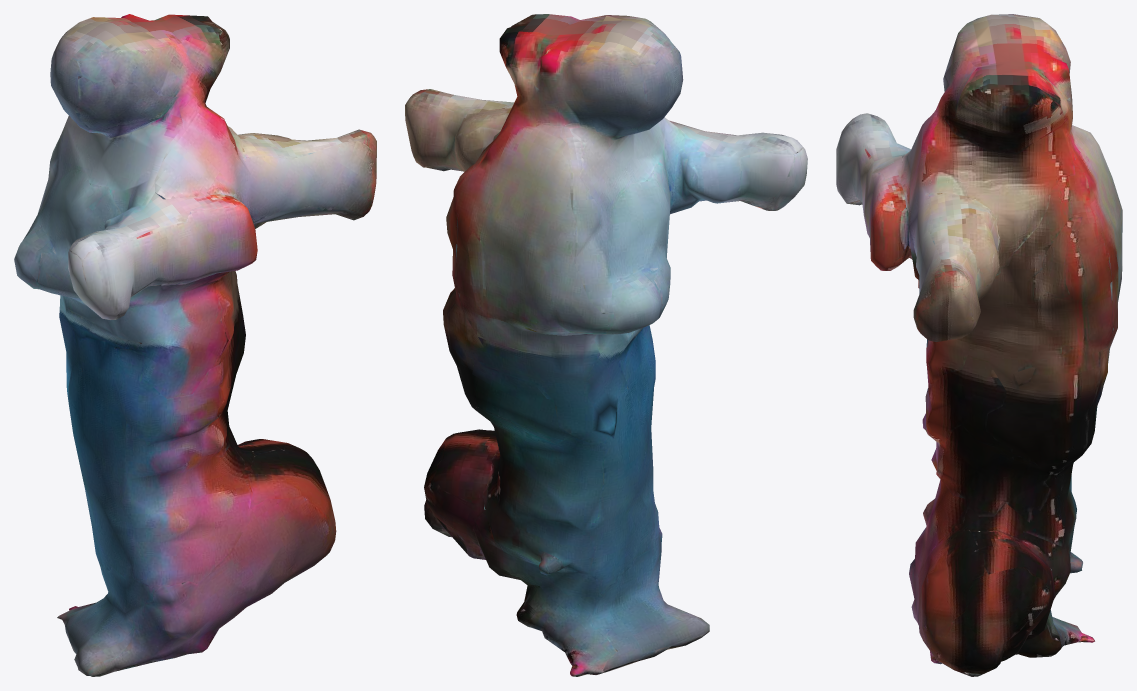
3 views of the same model, side by side, from view 1: azimuth 30°, elevation 25°; view 2: azimuth 150°, elevation 25°; view 3: azimuth 270°, elevation 25° (orthographic).
Parts seen in each view (by area): view 1: Mesh_0; view 2: Mesh_0; view 3: Mesh_0.
Part boxes in pixels (left/top/right/bottom): Mesh_0: left=14, top=14, right=376, bottom=676; Mesh_0: left=405, top=14, right=807, bottom=676; Mesh_0: left=836, top=14, right=1122, bottom=676.
Size of the model in its own units: 70.5 by 120 by 49.77.
1 material, 1 textured.
